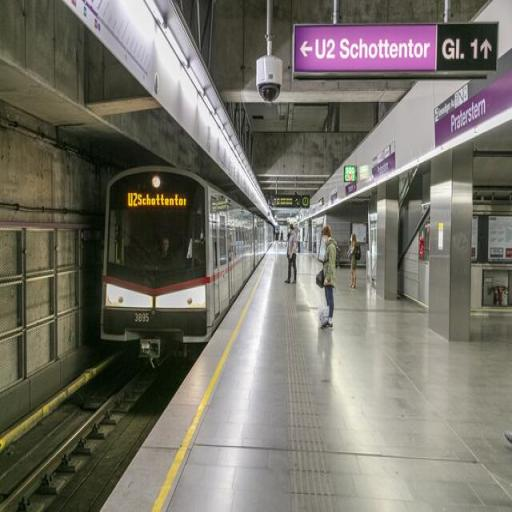V-Wagen: (104, 164, 274, 344)
